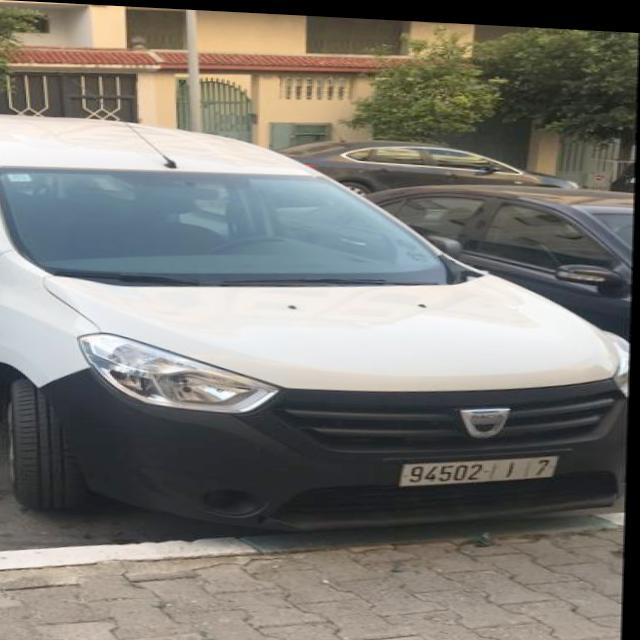License-Plate: (403, 449, 561, 482)
